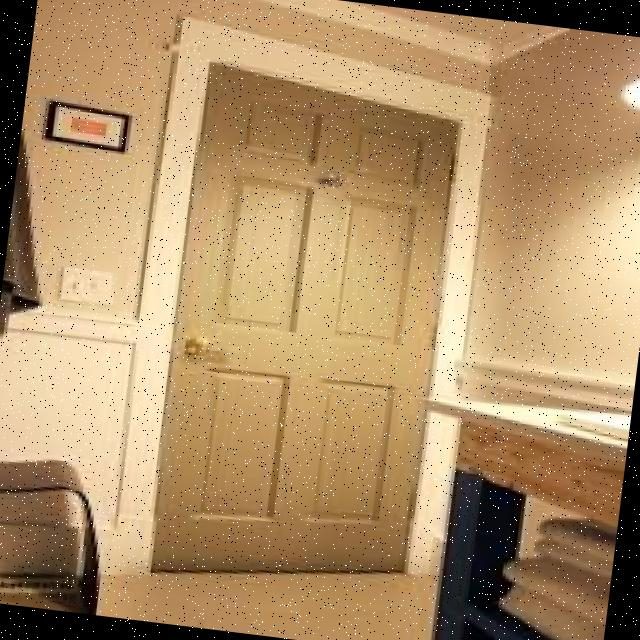Door: (134, 50, 480, 610)
